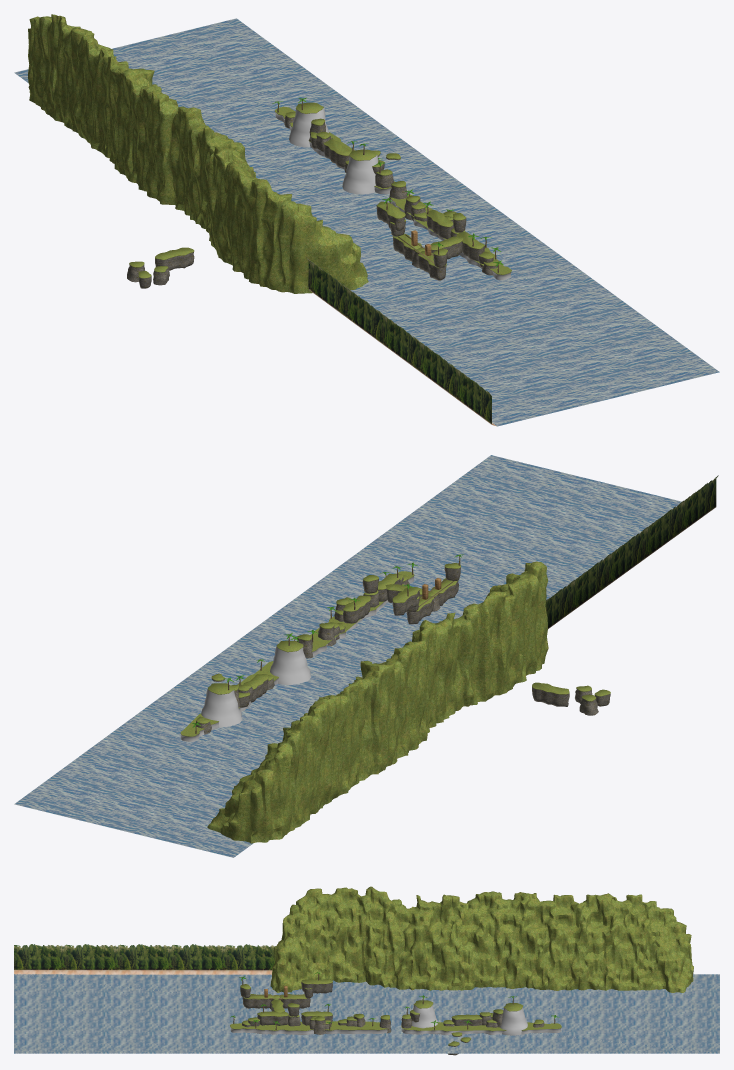
Rendered from wald_3.fbx.
The picture shows the model from 3 angles, top to bottom: view 1: azimuth 30°, elevation 25°; view 2: azimuth 150°, elevation 25°; view 3: azimuth 270°, elevation 25°; orthographic projection. The views are drawn at different scales.
Parts seen in each view (by area): view 1: Water, Hexgrid, Plane.002, Circle.001, Circle.000, Plane, Grassblock4; view 2: Water, Hexgrid, Plane.002, Circle.001, Circle.000, Plane, Plane.001, Grassblock4; view 3: Water, Hexgrid, Plane.002, Plane, Plane.001, Circle.000, Circle.001, Grassblock4.001, Grassblock4.006, Grassblock4.004, Grassblock4.005, Grassblock4.007.
Part boxes in pixels (bbox=[...]): Water: bbox=[14, 18, 719, 426]; Hexgrid: bbox=[28, 14, 368, 293]; Plane.002: bbox=[306, 257, 496, 426]; Circle.001: bbox=[342, 149, 378, 194]; Circle.000: bbox=[289, 102, 328, 147]; Plane: bbox=[390, 194, 511, 280]; Grassblock4: bbox=[155, 247, 194, 270]; Water: bbox=[14, 455, 681, 857]; Hexgrid: bbox=[207, 561, 548, 843]; Plane.002: bbox=[545, 475, 718, 628]; Circle.001: bbox=[270, 640, 310, 684]; Circle.000: bbox=[201, 683, 242, 727]; Plane: bbox=[310, 571, 414, 656]; Plane.001: bbox=[180, 661, 278, 741]; Grassblock4: bbox=[532, 682, 569, 706]; Water: bbox=[14, 974, 719, 1053]; Hexgrid: bbox=[270, 886, 693, 992]; Plane.002: bbox=[14, 944, 275, 974]; Plane: bbox=[230, 1021, 388, 1034]; Plane.001: bbox=[401, 1022, 561, 1035]; Circle.000: bbox=[500, 1003, 527, 1035]; Circle.001: bbox=[411, 1000, 438, 1028]; Grassblock4.001: bbox=[257, 1011, 288, 1025]; Grassblock4.006: bbox=[301, 979, 332, 993]; Grassblock4.004: bbox=[242, 994, 273, 1008]; Grassblock4.005: bbox=[279, 994, 310, 1008]; Grassblock4.007: bbox=[451, 1014, 482, 1025].
Bounding box in the file's own units: 31574 × 10056 × 75366.
